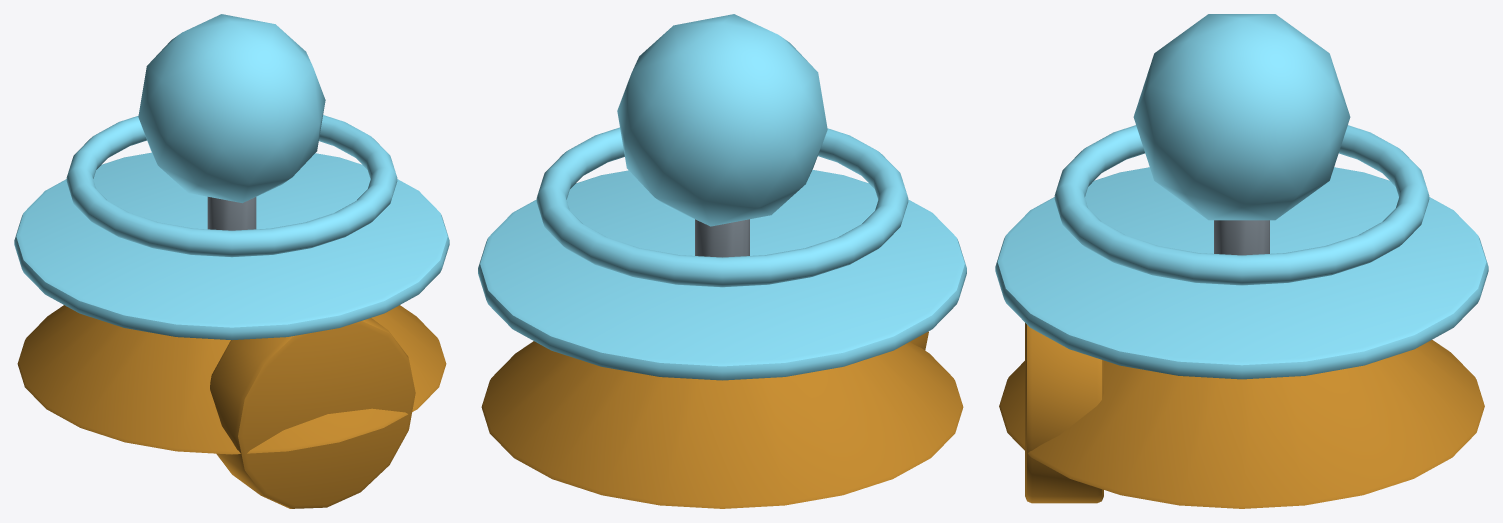
File: BubbleA2.obj
3 views of the same model, side by side, from view 1: azimuth 30°, elevation 25°; view 2: azimuth 150°, elevation 25°; view 3: azimuth 270°, elevation 25° (orthographic). The views are drawn at different scales.
Visible parts, largest first — view 1: BubbleA2; view 2: BubbleA2; view 3: BubbleA2.
Boxes of the visible parts, x1,y1,x2,y2 form: BubbleA2: [14, 14, 449, 508]; BubbleA2: [478, 14, 966, 508]; BubbleA2: [995, 14, 1488, 508].
Bounding box in the file's own units: 1 × 1.06 × 1.
